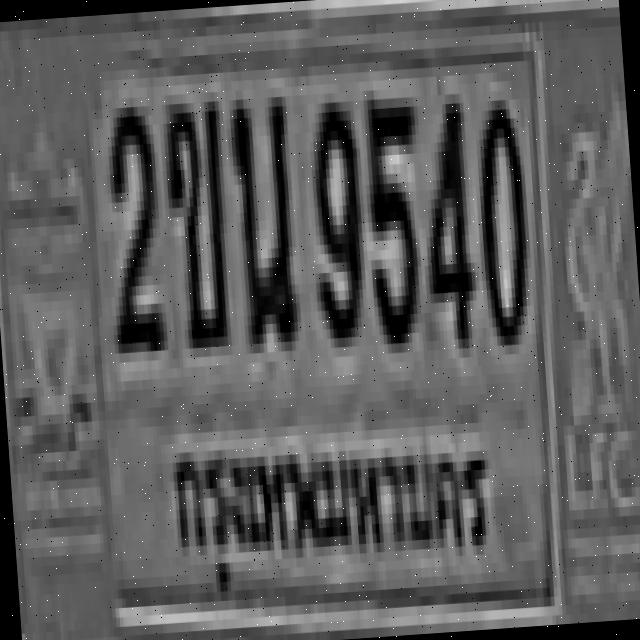0: (471, 90, 530, 336)
11KhorKhai: (157, 92, 230, 340)
2: (98, 96, 164, 344)
34NorNu: (224, 87, 297, 335)
4: (414, 84, 474, 340)
5: (356, 88, 426, 344)
9: (302, 92, 365, 339)
Bangkok: (164, 418, 504, 612)
